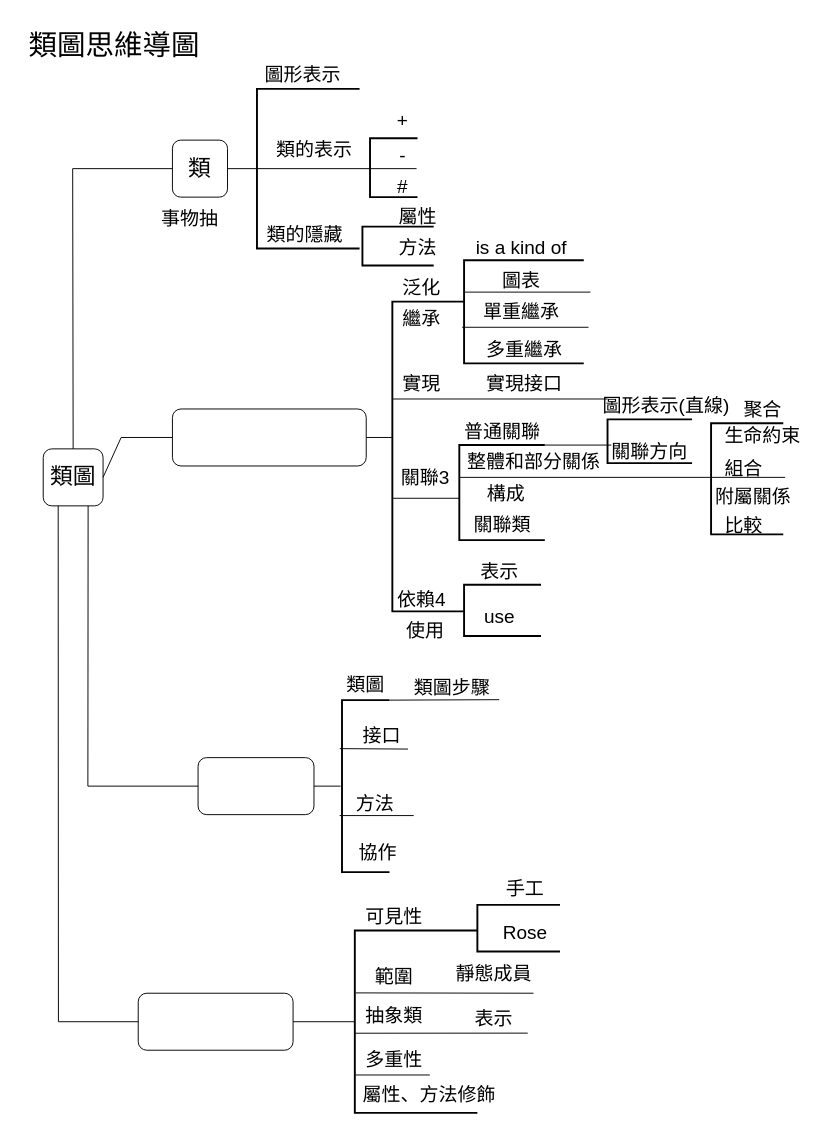
Some shapes in this 830 by 1130 pixel diagram are drawn without their labels. Here are the shapes that lost their labels. From the top down, the box of each, then its label:
(171, 408, 366, 466): 類的關係、順序
(197, 757, 314, 815): 類圖構成
(137, 992, 293, 1050): 類圖深入討論
